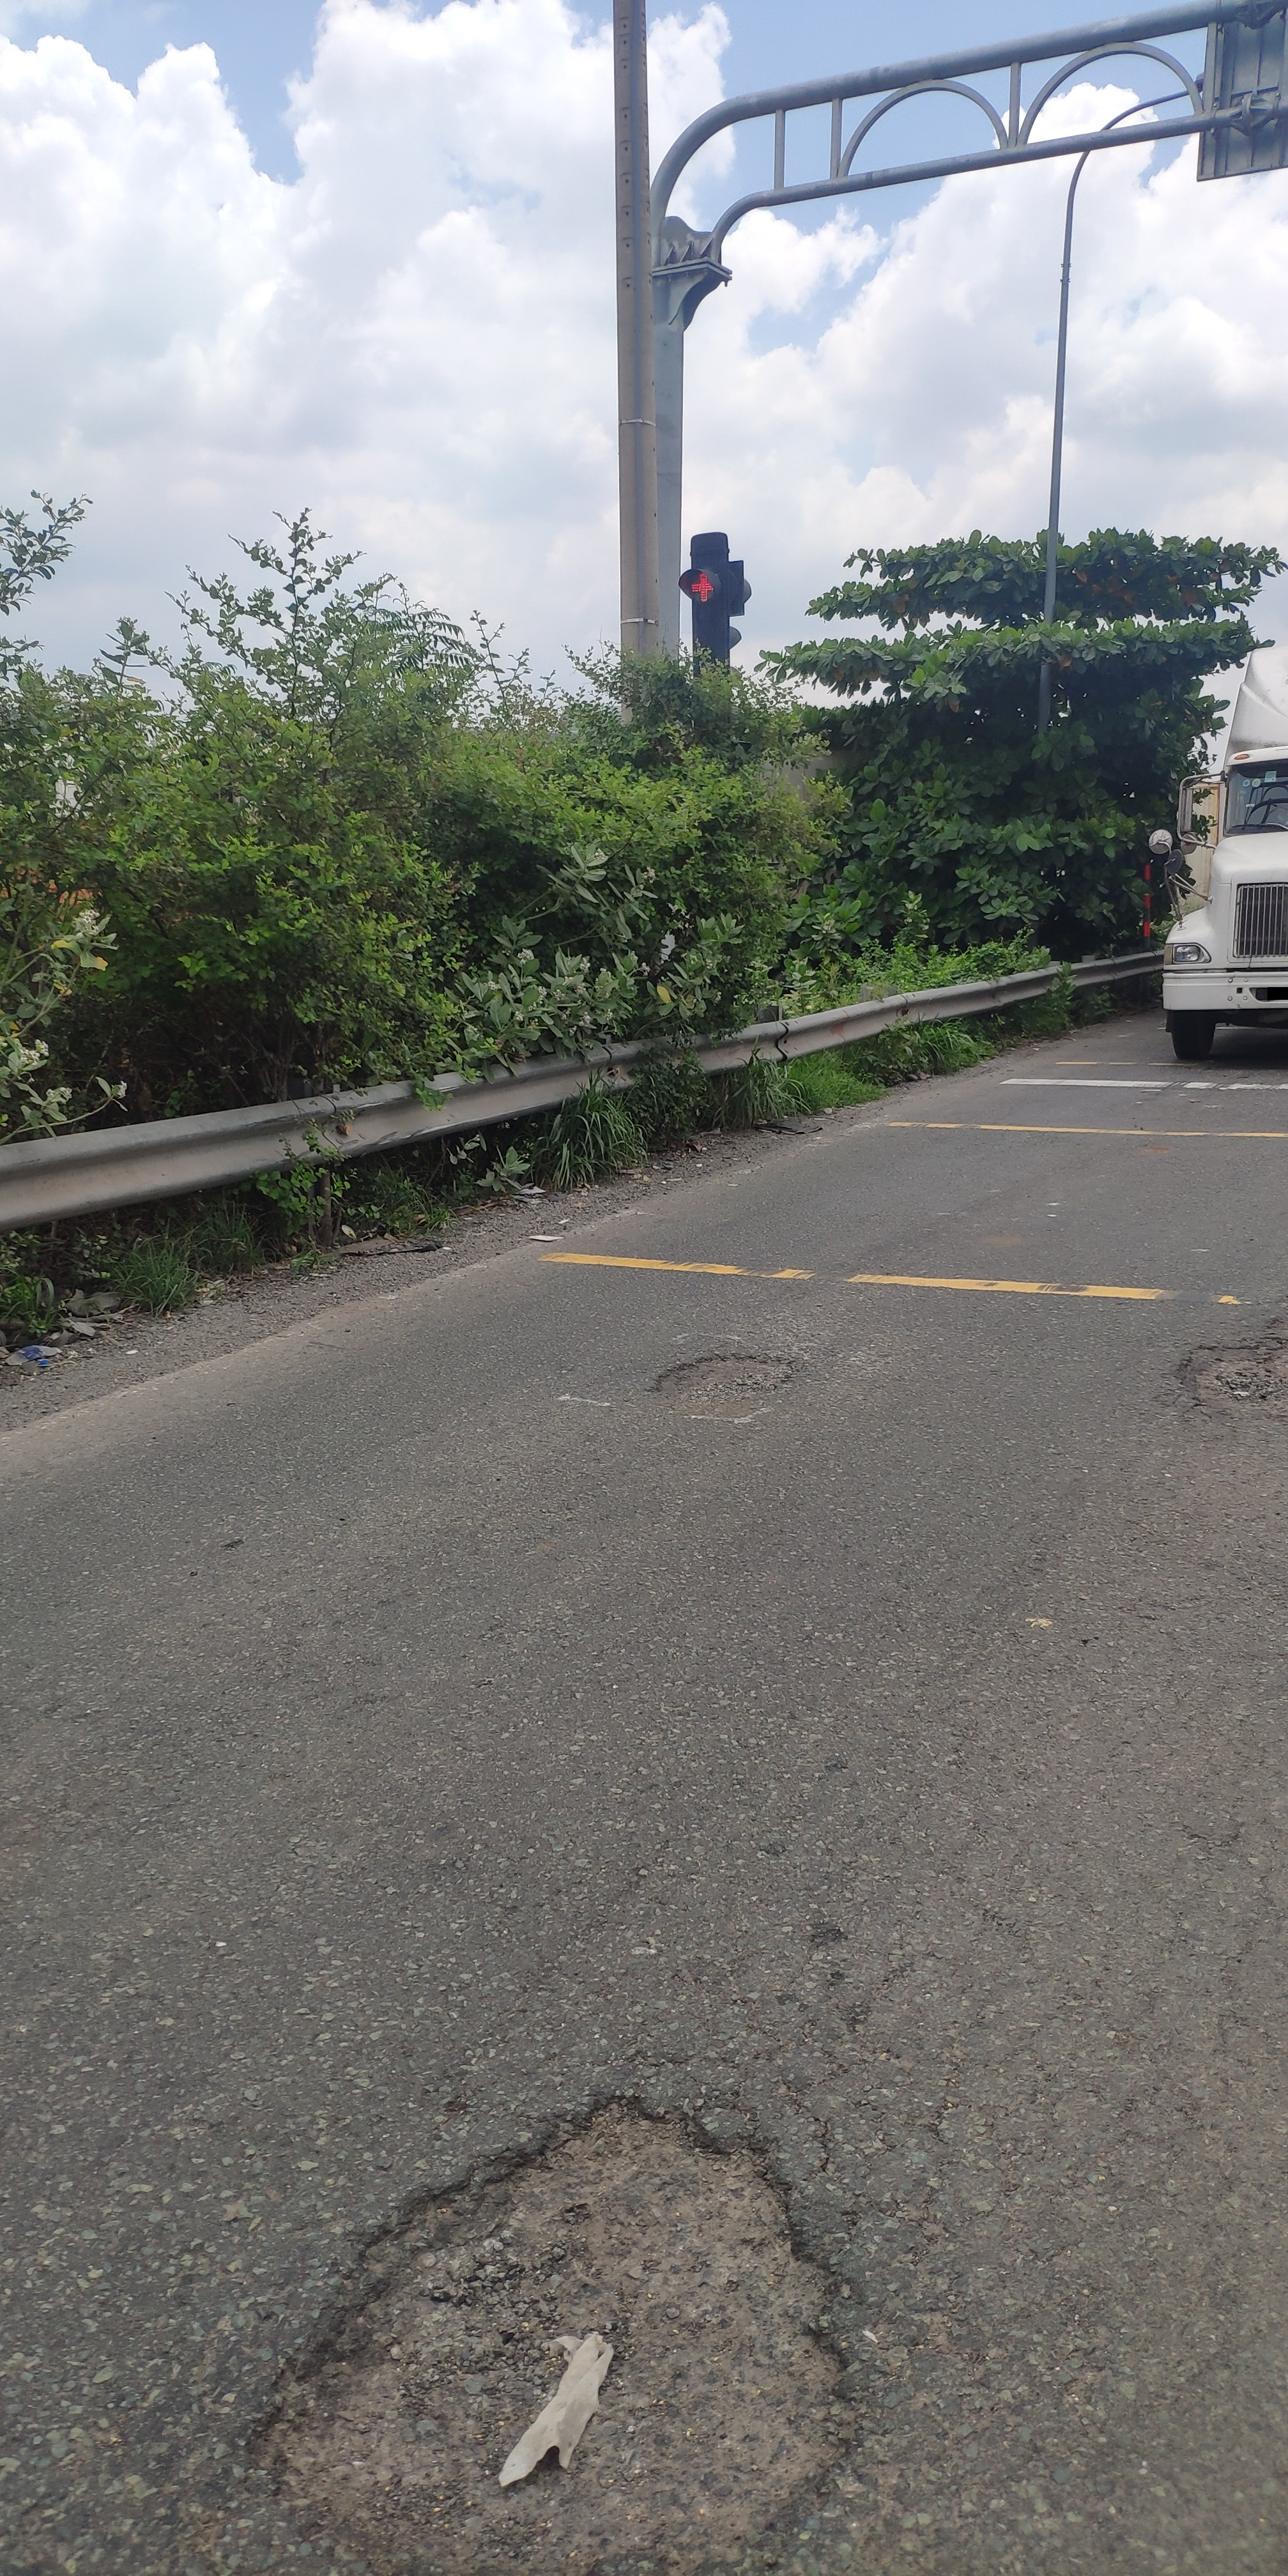hole: (274, 2100, 858, 2576), (662, 1341, 797, 1423), (1189, 1319, 1288, 1428)
